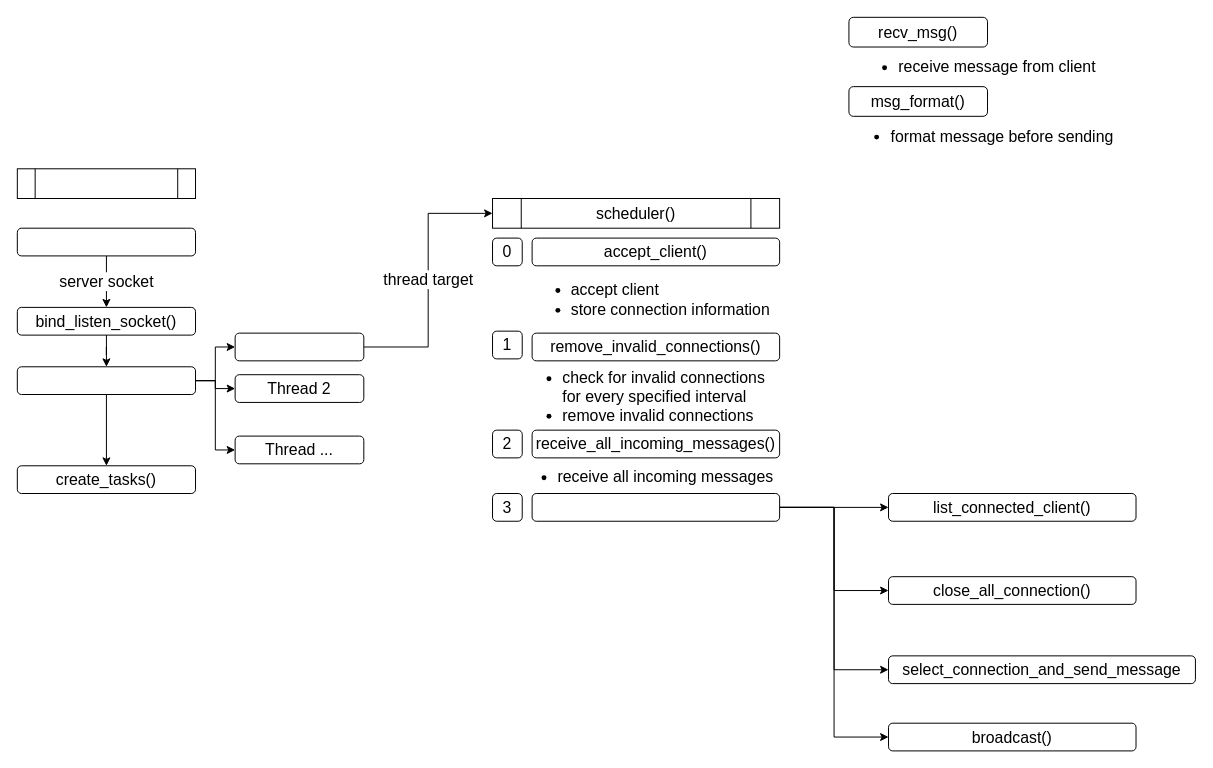
Some shapes in this 1213 by 768 pixel diagram are drawn without their labels. Here are the shapes that lost their labels. From the top down, the box of each, then its label:
(16, 168, 196, 198): main()
(16, 227, 196, 256): create_socket()
(234, 332, 364, 361): Thread 1
(16, 366, 196, 395): create_threads()
(531, 493, 780, 521): work()
